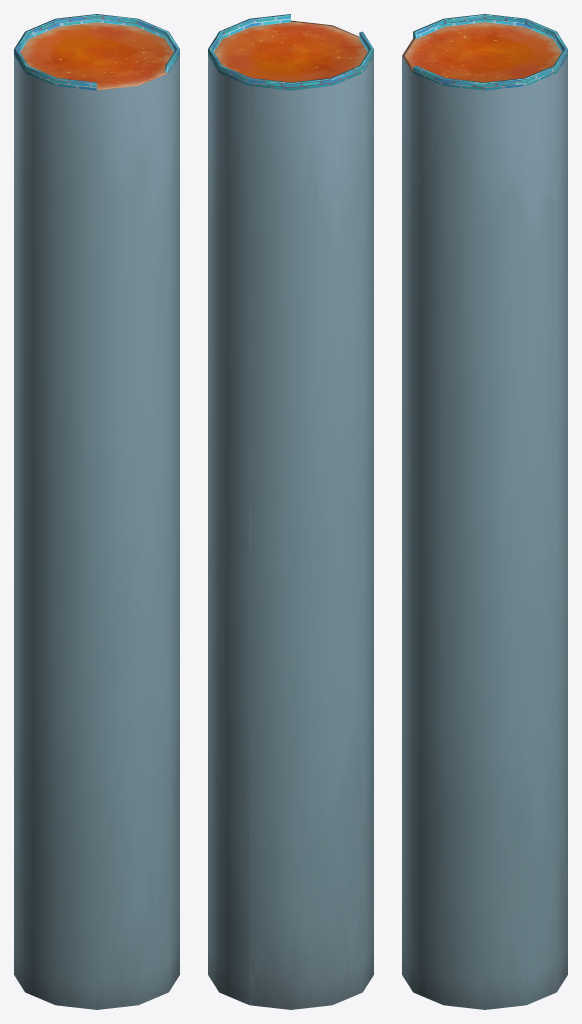
The model's file is Kyotenn2.fbx.
3 renders of one model, left to right at view 1: azimuth 30°, elevation 25°; view 2: azimuth 150°, elevation 25°; view 3: azimuth 270°, elevation 25°, orthographic.
Visible parts, largest first — view 1: kyotenn1; view 2: kyotenn1; view 3: kyotenn1.
Part boxes in pixels (x1,y1,x2,y2): kyotenn1: (14, 14, 179, 1009); kyotenn1: (208, 14, 373, 1009); kyotenn1: (402, 14, 567, 1009).
Bounding box in the file's own units: 349 × 2152 × 349.
Materials: 1 (1 with a texture image).
